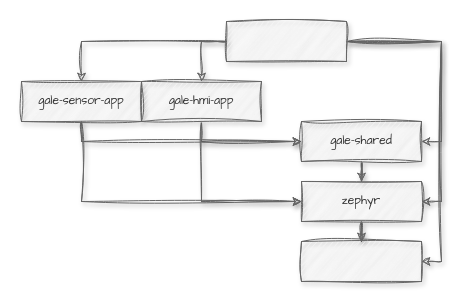
This 473x306 diagram has some shape labels left out. The centre of each missing label's shape, as x and y in pixels:
gale-manifest: pixel 287 42
HALs: pixel 362 262
